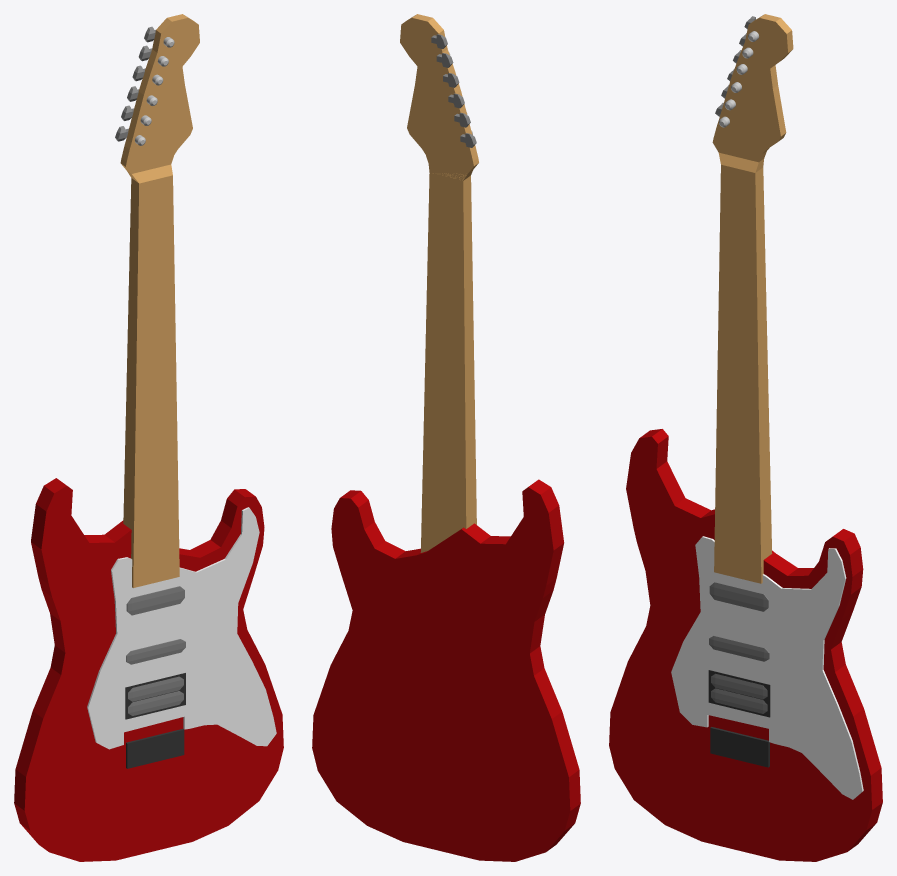
The model's file is strat.fbx.
3 views of the same model, side by side, from view 1: azimuth 30°, elevation 25°; view 2: azimuth 150°, elevation 25°; view 3: azimuth 330°, elevation 25° (orthographic).
Parts seen in each view (by area): view 1: Cube.008; view 2: Cube.008; view 3: Cube.008.
Part boxes in pixels (bbox=[...]): Cube.008: bbox=[14, 14, 283, 861]; Cube.008: bbox=[312, 14, 580, 861]; Cube.008: bbox=[609, 14, 882, 861].
Bounding box in the file's own units: 69.93 × 213 × 6.59.
